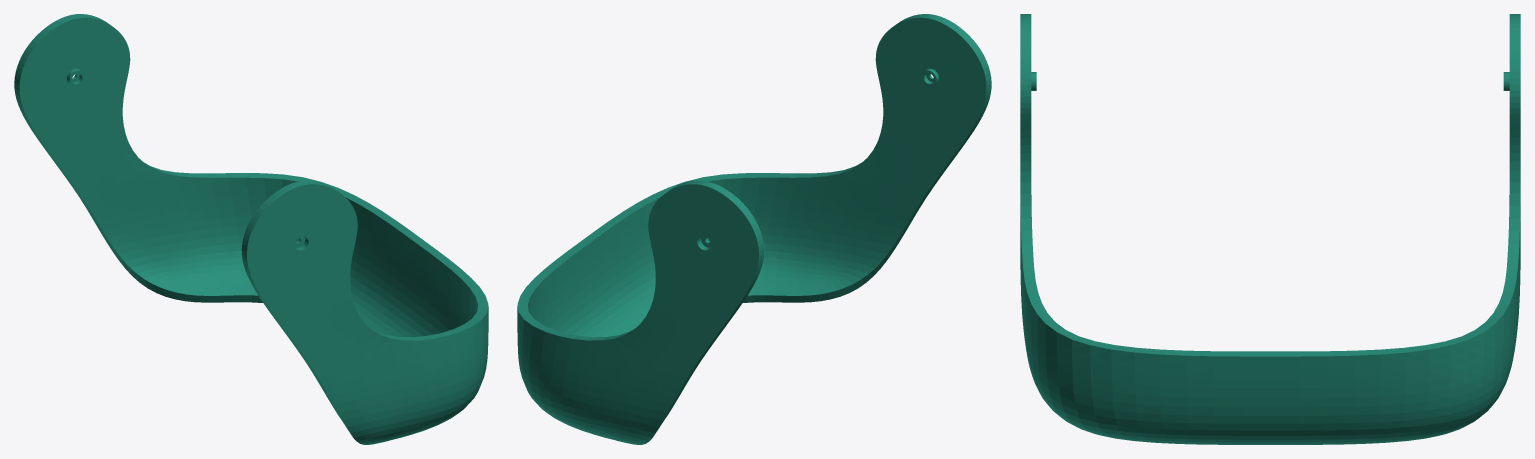
Rendered from jaw.dae.
3 renders of one model, left to right at view 1: azimuth 30°, elevation 25°; view 2: azimuth 150°, elevation 25°; view 3: azimuth 270°, elevation 25°, orthographic. The views are drawn at different scales.
Parts seen in each view (by area): view 1: jaw; view 2: jaw; view 3: jaw.
Part boxes in pixels (x1,y1,x2,y2): jaw: (14, 14, 488, 444); jaw: (517, 14, 991, 444); jaw: (1020, 14, 1520, 444).
Bounding box in the file's own units: 0.131 × 0.1804 × 0.1293.
